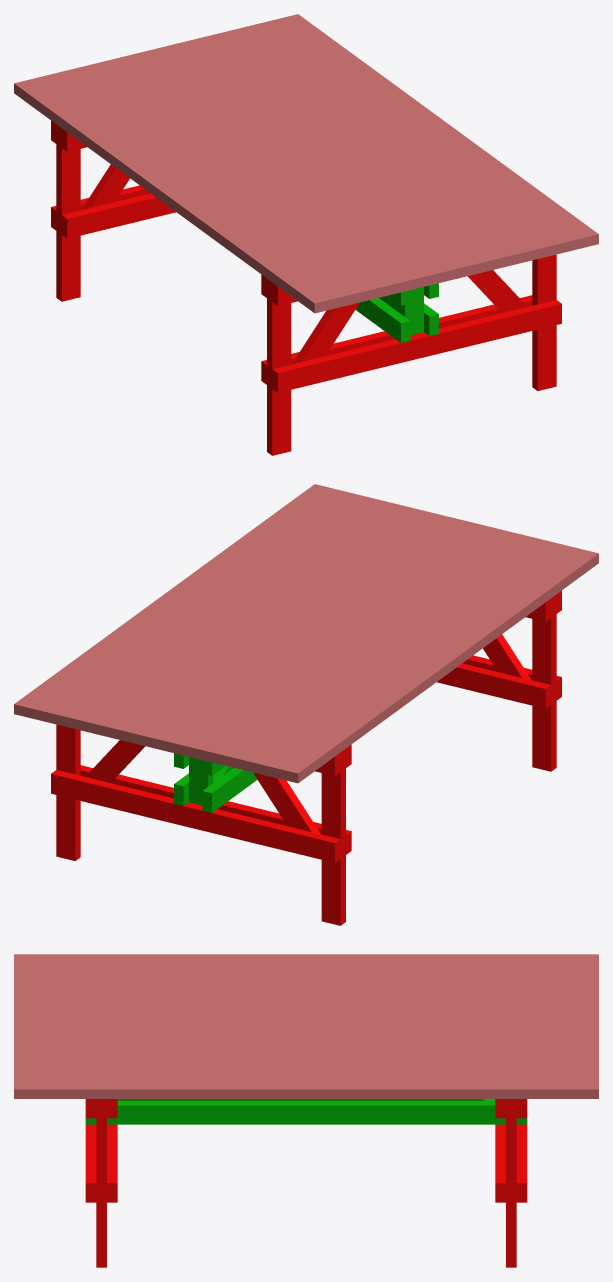
File: result.glb
3 renders of one model, top to bottom at view 1: azimuth 30°, elevation 25°; view 2: azimuth 150°, elevation 25°; view 3: azimuth 270°, elevation 25°, orthographic. The views are drawn at different scales.
Visible parts, largest first — view 1: 840692da-6987-4074-9329-462171c02967__Box, 36e9f72f-45ef-4112-bce9-80d11bdbf124__sideH, ded0fa29-6b86-404f-96a6-4c9367515fc2__undefined, efc88f84-66a3-4d29-9021-b3c86b3061e8__undefined, faf6793a-f51d-41d6-8b6a-315227a4524c__undefined, 328649a8-d903-4b42-aa21-2f1eea66f47a__undefined, d4e6efdb-baf6-4ed4-a459-2edc2f7d2691__undefined, e4ea161b-2848-4fd5-8e28-d4982c17f290__undefined, 5393e641-95f0-4419-965d-01f96b76b95c__undefined, 55c0c5bc-0275-4afe-8e4a-707596598e4d__undefined, 86bf6a81-df8f-4c34-8160-768bf7b8a096__undefined, 1c9ac348-c165-4264-9b90-eadeb8aac549__undefined (+14 smaller); view 2: 840692da-6987-4074-9329-462171c02967__Box, c70b30a3-8752-4769-88f5-f96e4a4d9ba5__undefined, ded0fa29-6b86-404f-96a6-4c9367515fc2__undefined, efc88f84-66a3-4d29-9021-b3c86b3061e8__undefined, faf6793a-f51d-41d6-8b6a-315227a4524c__undefined, 328649a8-d903-4b42-aa21-2f1eea66f47a__undefined, d4e6efdb-baf6-4ed4-a459-2edc2f7d2691__undefined, e4ea161b-2848-4fd5-8e28-d4982c17f290__undefined, 5393e641-95f0-4419-965d-01f96b76b95c__undefined, 55c0c5bc-0275-4afe-8e4a-707596598e4d__undefined, 86bf6a81-df8f-4c34-8160-768bf7b8a096__undefined, 1c9ac348-c165-4264-9b90-eadeb8aac549__undefined (+14 smaller); view 3: d19145a8-d98f-45e1-9403-0b39e6cdfd92__undefined, f88928ee-6fbc-41a7-9910-1801d7b5c87d__strutH, 840692da-6987-4074-9329-462171c02967__Box, ded0fa29-6b86-404f-96a6-4c9367515fc2__undefined, e4ea161b-2848-4fd5-8e28-d4982c17f290__undefined, 328649a8-d903-4b42-aa21-2f1eea66f47a__undefined, efc88f84-66a3-4d29-9021-b3c86b3061e8__undefined, 1c9ac348-c165-4264-9b90-eadeb8aac549__undefined, d4e6efdb-baf6-4ed4-a459-2edc2f7d2691__undefined, 86bf6a81-df8f-4c34-8160-768bf7b8a096__undefined, 5393e641-95f0-4419-965d-01f96b76b95c__undefined, 55c0c5bc-0275-4afe-8e4a-707596598e4d__undefined (+11 smaller).
Boxes of the visible parts, x1=… form: 840692da-6987-4074-9329-462171c02967__Box: x1=14, y1=79, x2=333, y2=313; 36e9f72f-45ef-4112-bce9-80d11bdbf124__sideH: x1=272, y1=300, x2=561, y2=392; ded0fa29-6b86-404f-96a6-4c9367515fc2__undefined: x1=33, y1=74, x2=352, y2=308; efc88f84-66a3-4d29-9021-b3c86b3061e8__undefined: x1=90, y1=60, x2=409, y2=294; faf6793a-f51d-41d6-8b6a-315227a4524c__undefined: x1=203, y1=32, x2=523, y2=266; 328649a8-d903-4b42-aa21-2f1eea66f47a__undefined: x1=71, y1=65, x2=390, y2=299; d4e6efdb-baf6-4ed4-a459-2edc2f7d2691__undefined: x1=128, y1=51, x2=447, y2=285; e4ea161b-2848-4fd5-8e28-d4982c17f290__undefined: x1=52, y1=69, x2=371, y2=303; 5393e641-95f0-4419-965d-01f96b76b95c__undefined: x1=166, y1=42, x2=485, y2=276; 55c0c5bc-0275-4afe-8e4a-707596598e4d__undefined: x1=185, y1=37, x2=504, y2=271; 86bf6a81-df8f-4c34-8160-768bf7b8a096__undefined: x1=147, y1=46, x2=466, y2=280; 1c9ac348-c165-4264-9b90-eadeb8aac549__undefined: x1=109, y1=55, x2=428, y2=289; 840692da-6987-4074-9329-462171c02967__Box: x1=279, y1=549, x2=598, y2=783; c70b30a3-8752-4769-88f5-f96e4a4d9ba5__undefined: x1=51, y1=770, x2=340, y2=862; ded0fa29-6b86-404f-96a6-4c9367515fc2__undefined: x1=260, y1=544, x2=579, y2=778; efc88f84-66a3-4d29-9021-b3c86b3061e8__undefined: x1=203, y1=530, x2=522, y2=764; faf6793a-f51d-41d6-8b6a-315227a4524c__undefined: x1=89, y1=502, x2=409, y2=736; 328649a8-d903-4b42-aa21-2f1eea66f47a__undefined: x1=222, y1=535, x2=541, y2=769; d4e6efdb-baf6-4ed4-a459-2edc2f7d2691__undefined: x1=165, y1=521, x2=484, y2=755; e4ea161b-2848-4fd5-8e28-d4982c17f290__undefined: x1=241, y1=539, x2=560, y2=773; 5393e641-95f0-4419-965d-01f96b76b95c__undefined: x1=127, y1=512, x2=446, y2=746; 55c0c5bc-0275-4afe-8e4a-707596598e4d__undefined: x1=108, y1=507, x2=427, y2=741; 86bf6a81-df8f-4c34-8160-768bf7b8a096__undefined: x1=146, y1=516, x2=465, y2=750; 1c9ac348-c165-4264-9b90-eadeb8aac549__undefined: x1=184, y1=525, x2=503, y2=759; d19145a8-d98f-45e1-9403-0b39e6cdfd92__undefined: x1=14, y1=1080, x2=598, y2=1098; f88928ee-6fbc-41a7-9910-1801d7b5c87d__strutH: x1=85, y1=1101, x2=527, y2=1124; 840692da-6987-4074-9329-462171c02967__Box: x1=14, y1=954, x2=598, y2=963; ded0fa29-6b86-404f-96a6-4c9367515fc2__undefined: x1=14, y1=963, x2=598, y2=972; e4ea161b-2848-4fd5-8e28-d4982c17f290__undefined: x1=14, y1=972, x2=598, y2=981; 328649a8-d903-4b42-aa21-2f1eea66f47a__undefined: x1=14, y1=981, x2=598, y2=990; efc88f84-66a3-4d29-9021-b3c86b3061e8__undefined: x1=14, y1=990, x2=598, y2=999; 1c9ac348-c165-4264-9b90-eadeb8aac549__undefined: x1=14, y1=999, x2=598, y2=1008; d4e6efdb-baf6-4ed4-a459-2edc2f7d2691__undefined: x1=14, y1=1008, x2=598, y2=1017; 86bf6a81-df8f-4c34-8160-768bf7b8a096__undefined: x1=14, y1=1017, x2=598, y2=1026; 5393e641-95f0-4419-965d-01f96b76b95c__undefined: x1=14, y1=1026, x2=598, y2=1035; 55c0c5bc-0275-4afe-8e4a-707596598e4d__undefined: x1=14, y1=1035, x2=598, y2=1044.
Bounding box in the file's own units: 1200 × 740 × 2200.
